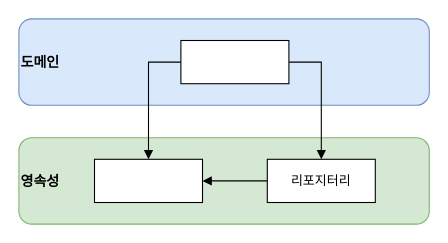
Image size: 448x243. Some labels were removed from this diagram. The shapes that lost their labels are listed below. From the top down, each one's box as (x1, y1, x2, y2) in pixels, then its label:
(180, 39, 289, 84): 서비스
(93, 158, 202, 202): 엔티티
